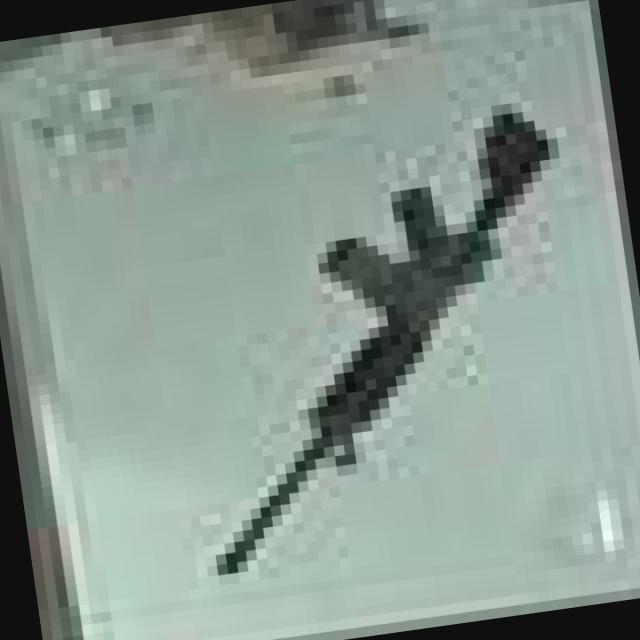long weapon: (524, 0, 601, 49)
